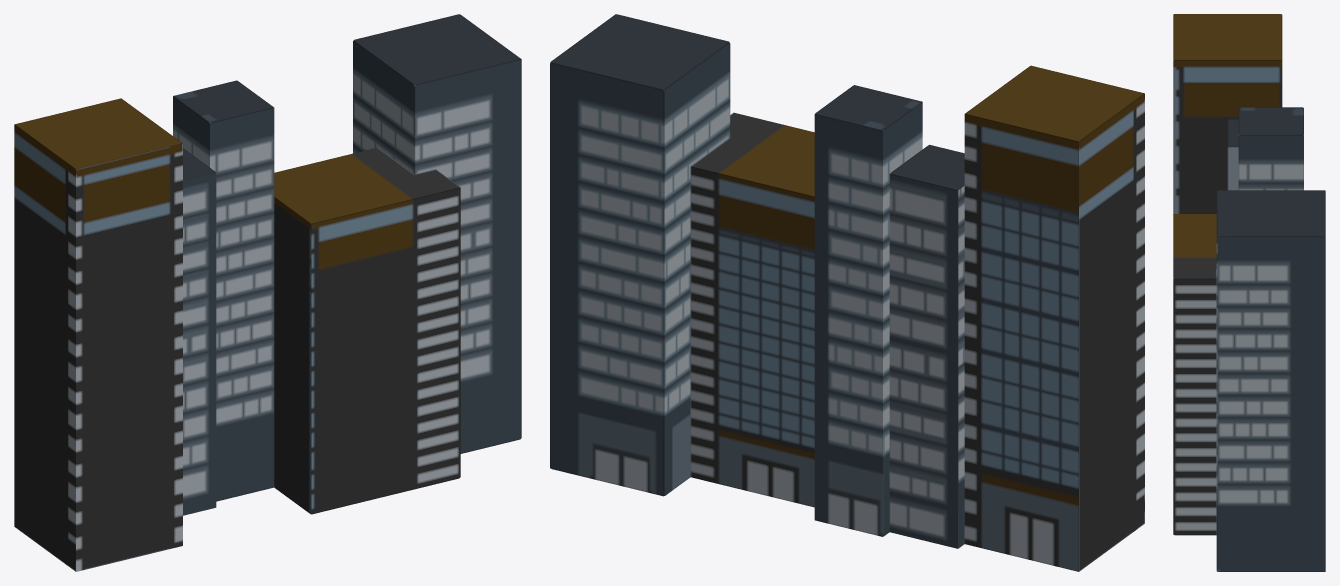
File: bgj261buildings.fbx
3 renders of one model, left to right at view 1: azimuth 30°, elevation 25°; view 2: azimuth 150°, elevation 25°; view 3: azimuth 270°, elevation 25°, orthographic. The views are drawn at different scales.
Parts seen in each view (by area): view 1: cityscape; view 2: cityscape; view 3: cityscape.
Boxes of the visible parts, x1,y1,x2,y2 form: cityscape: (14, 14, 521, 571); cityscape: (550, 14, 1144, 571); cityscape: (1173, 14, 1325, 571).
Bounding box in the file's own units: 138 × 112 × 43.75.
1 material, 1 textured.
